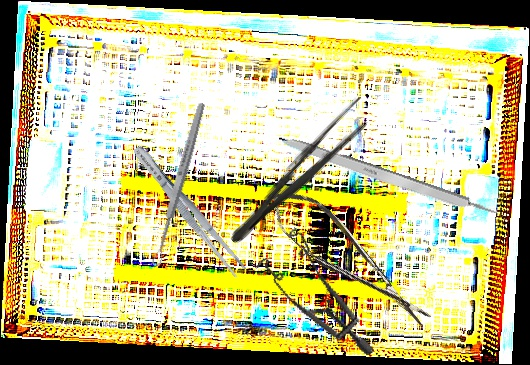Dressing Forceps: (222, 92, 378, 253), (128, 141, 249, 280)
Micro Scissor: (259, 175, 439, 344)
Scalpel Handle: (275, 132, 500, 224)
Speculum: (240, 219, 405, 357)
Surgical Spoon: (149, 101, 208, 268)
